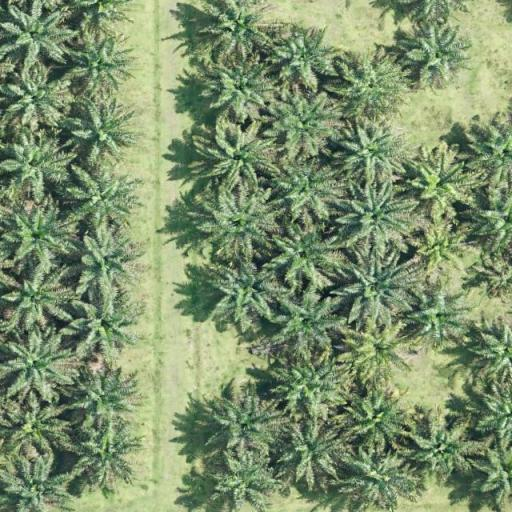Ganoderma: (359, 334, 396, 368), (422, 232, 454, 262)
